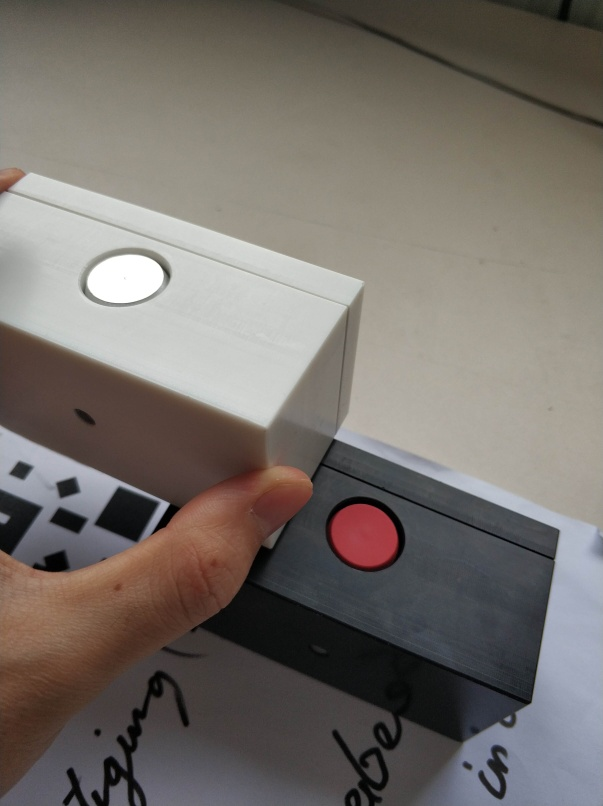black+black+red: (217, 440, 567, 744)
white+white+silver: (1, 167, 370, 509)
